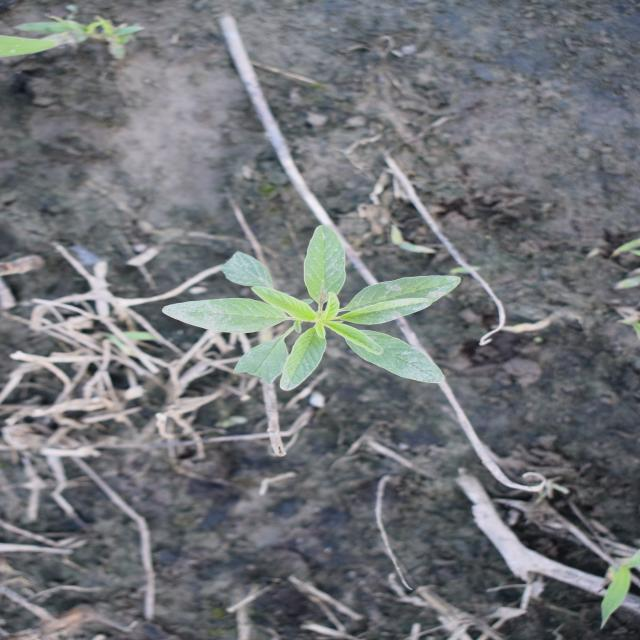Waterhemp: (159, 221, 465, 393)
